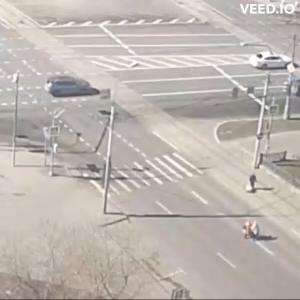car: (48, 79, 101, 99), (250, 55, 291, 71)
